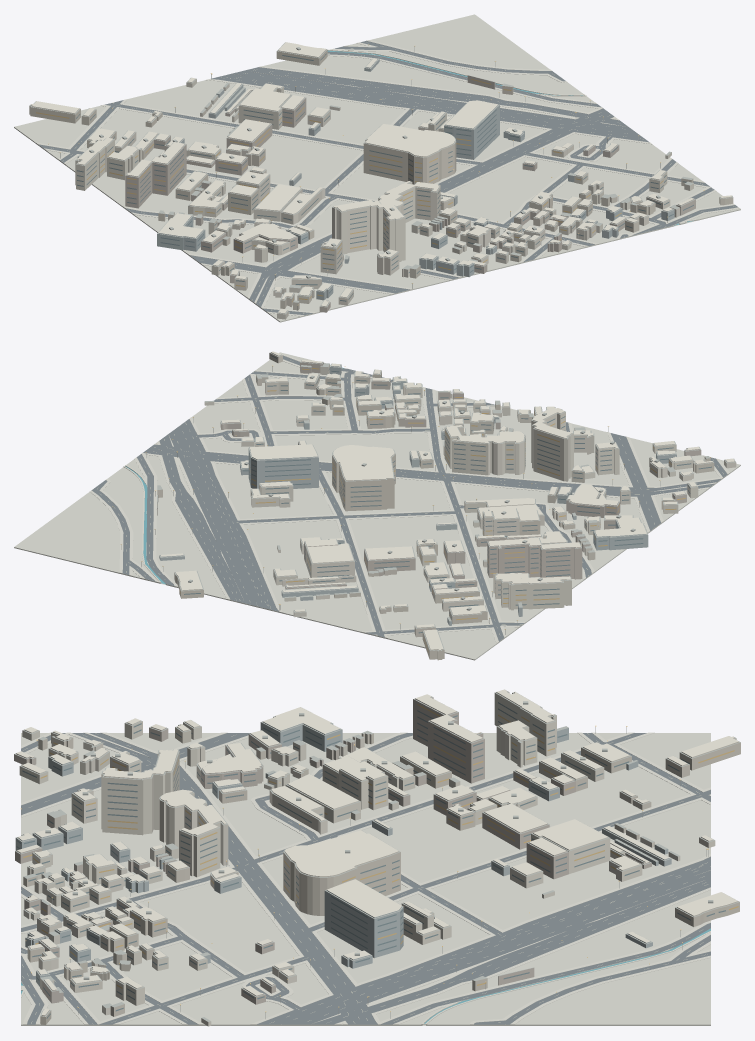
3 views of the same model, one above another, from view 1: azimuth 30°, elevation 25°; view 2: azimuth 150°, elevation 25°; view 3: azimuth 270°, elevation 25° (orthographic). The views are drawn at different scales.
Parts seen in each view (by area): view 1: city; view 2: city; view 3: city.
Part boxes in pixels (x1,y1,x2,y2): city: (14,14,740,322); city: (14,351,740,660); city: (14,689,740,1026).
Size of the model in its own units: 522 by 46.95 by 527.
